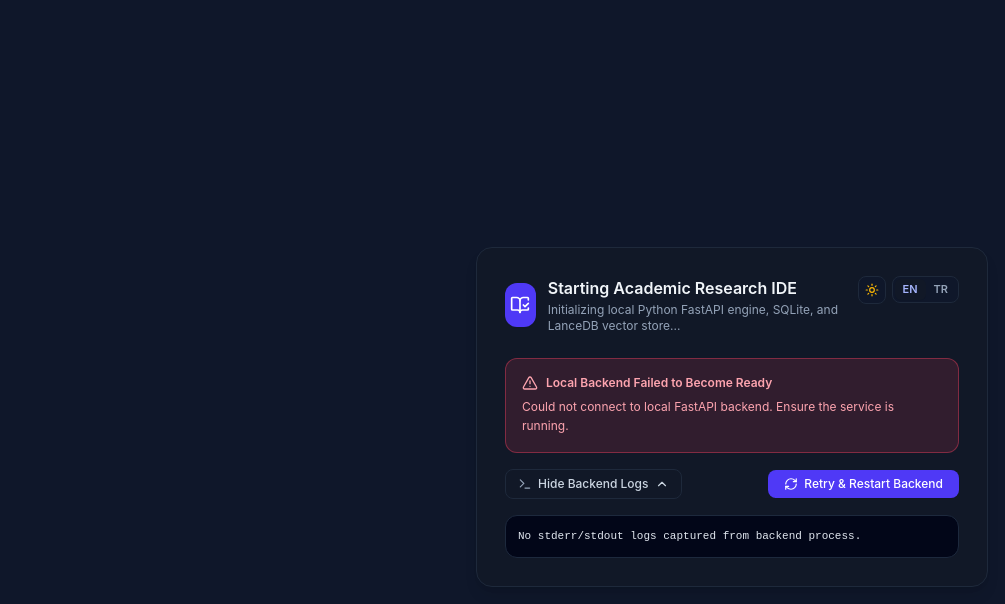
Test: StartupReadinessGate › shows bilingual diagnostics and recovers via retry after startup timeout
Expected: the text "Local Backend Failed to Become Ready" is shown, [546,375,772,391]
What coordinates should you click on to do the following:
click the button "tr"
I would click on:
 (941, 290)
Its box is [926,279,956,300].
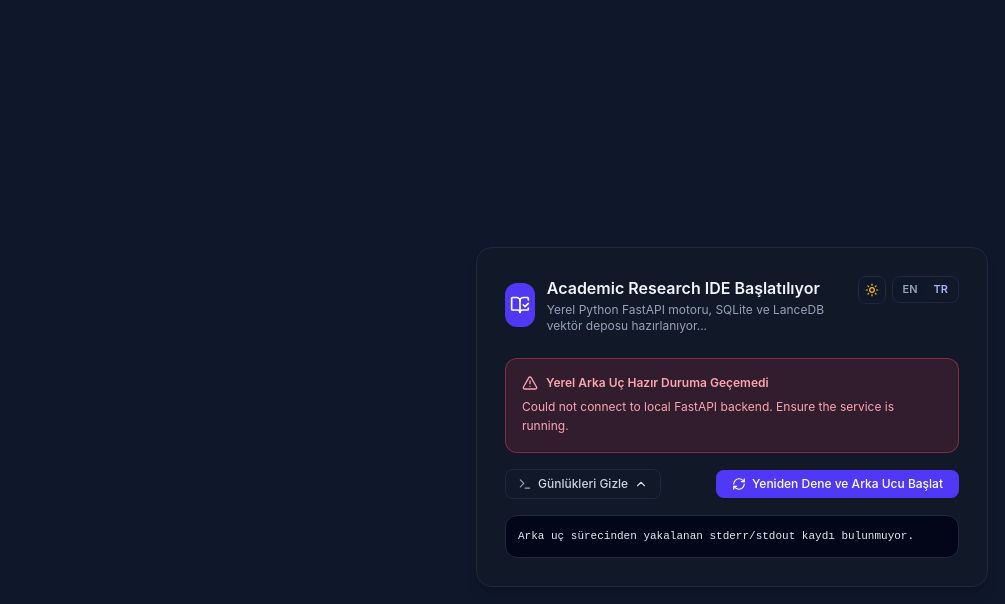
Result: the text "Yerel Arka Uç Hazır Duruma Geçemedi" is shown at [546,375,769,391]
What coordinates should you click on to do the following:
click the button "Yeniden Dene ve Arka Ucu Başlat"
I would click on:
 (838, 484)
Its box is [716,470,959,498].
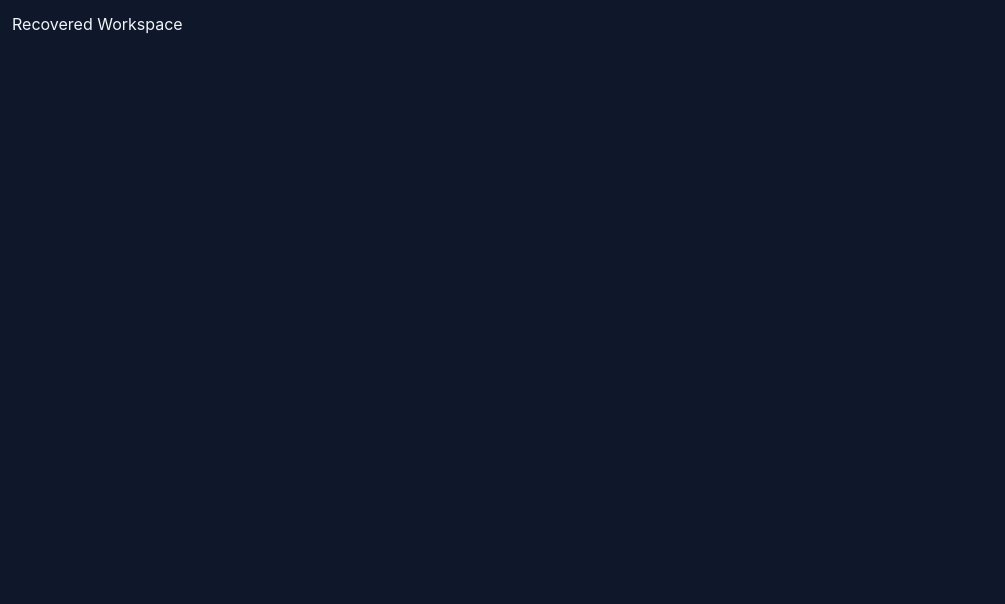
Result: the text "Recovered Workspace" is shown at [12,14,183,34]
